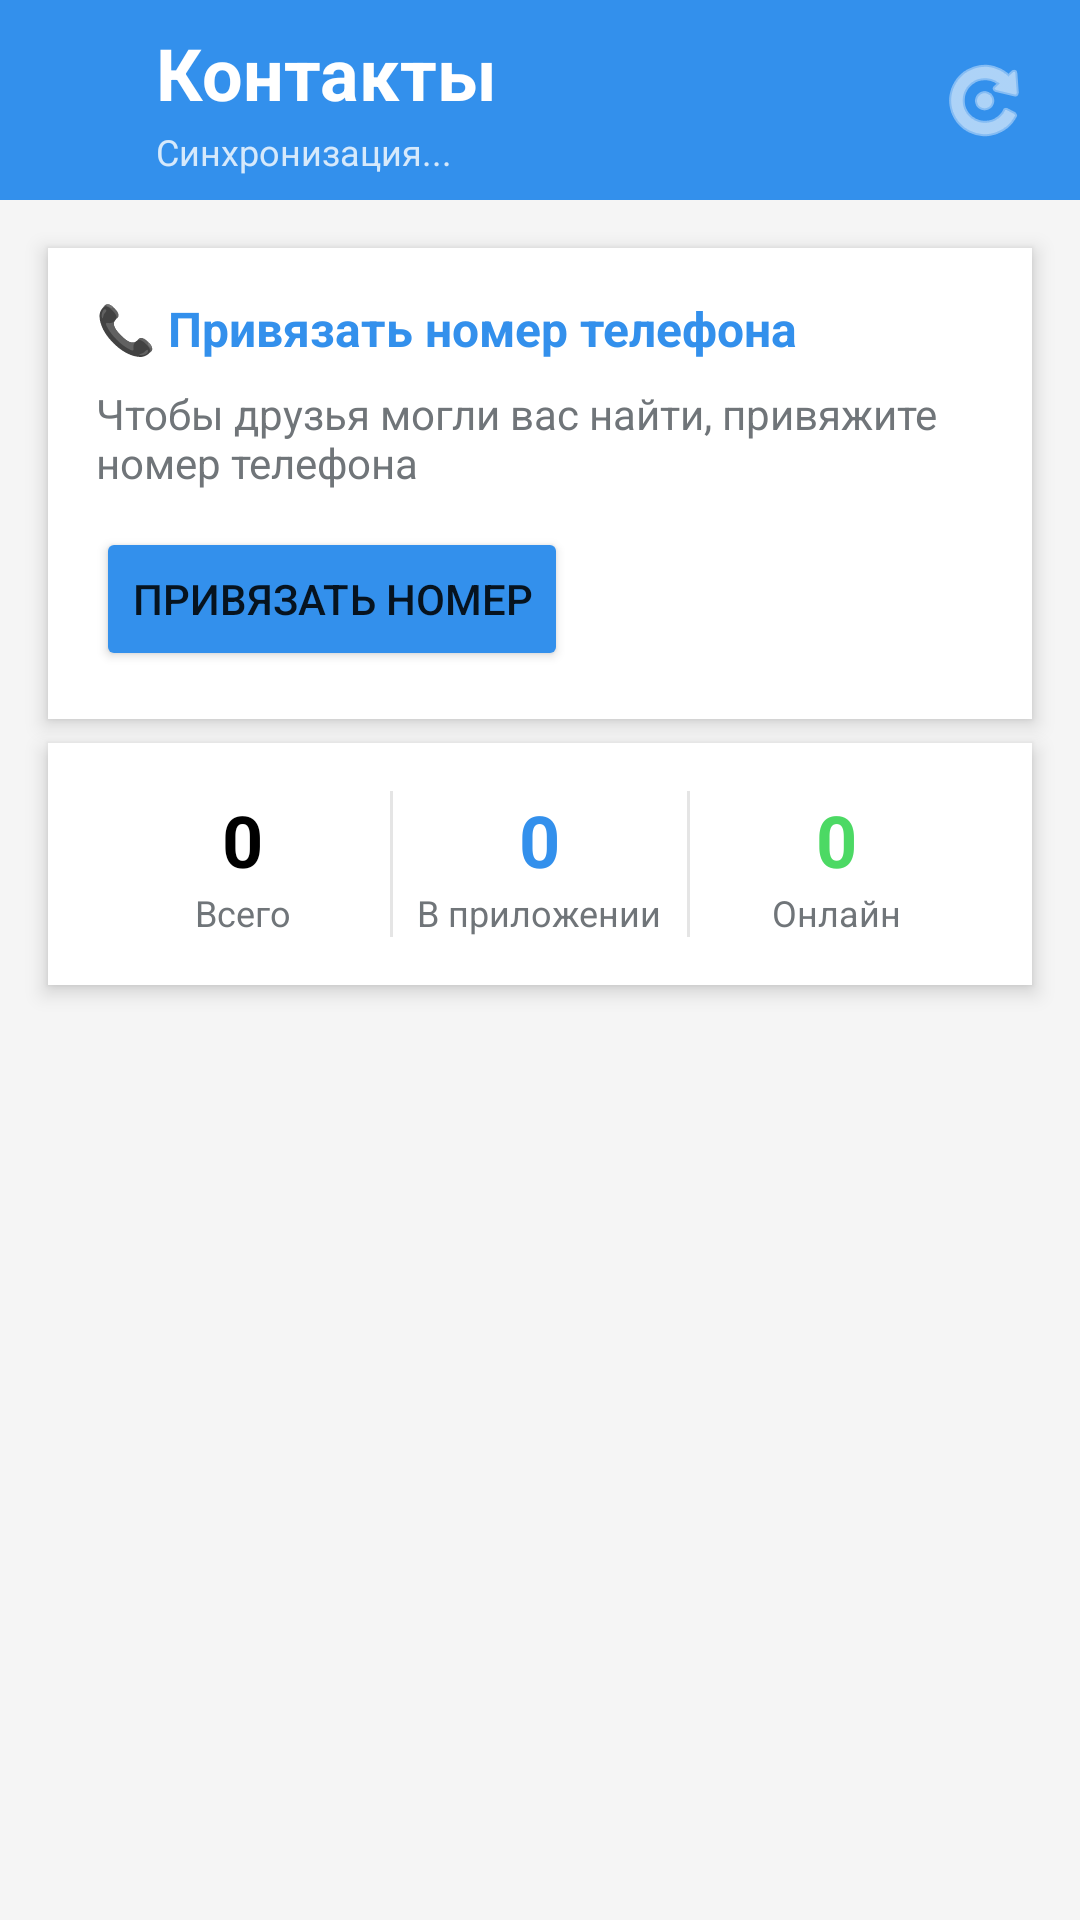

Screen size 1080px x 1920px. Icon name, then its center in pixels as point (x, y):
Обновить: point (984, 100)
